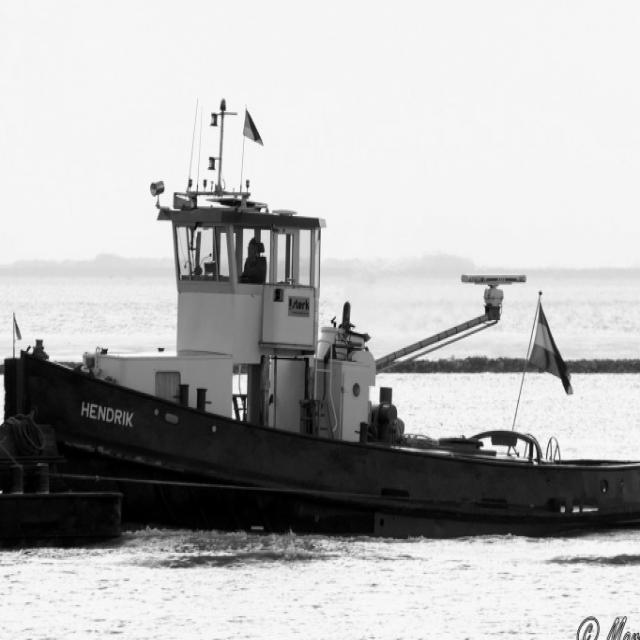tugboat: (2, 174, 640, 557)
